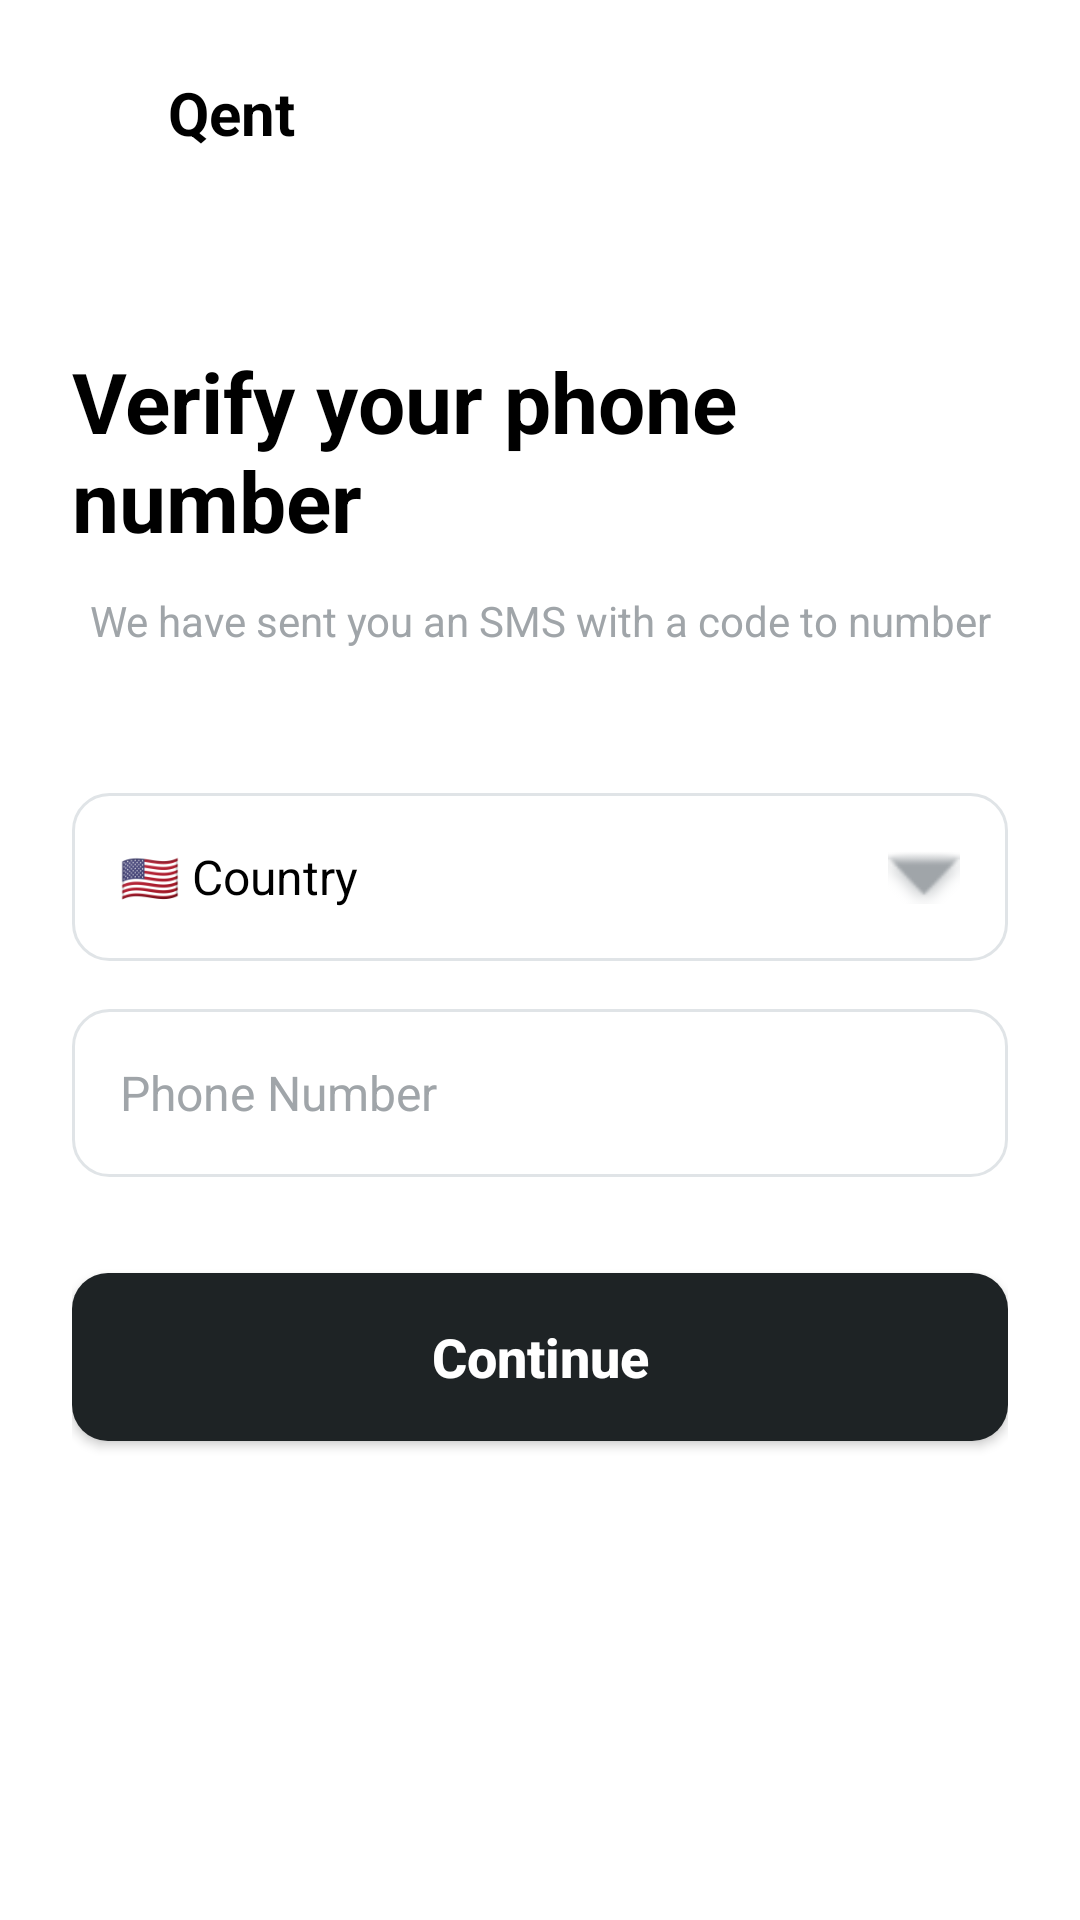

Named icons in this screenshot (1080px x 1920px) and their bounding boxes, (left=x1, top=y1, right=x2, bottom=y2):
arrow down float: (left=888, top=855, right=960, bottom=896)
